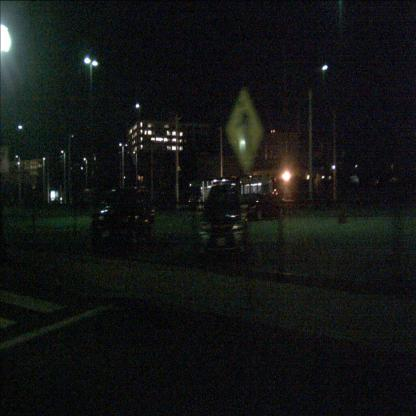vehicle-car: (197, 184, 249, 259), (93, 186, 155, 247), (244, 192, 286, 221)
